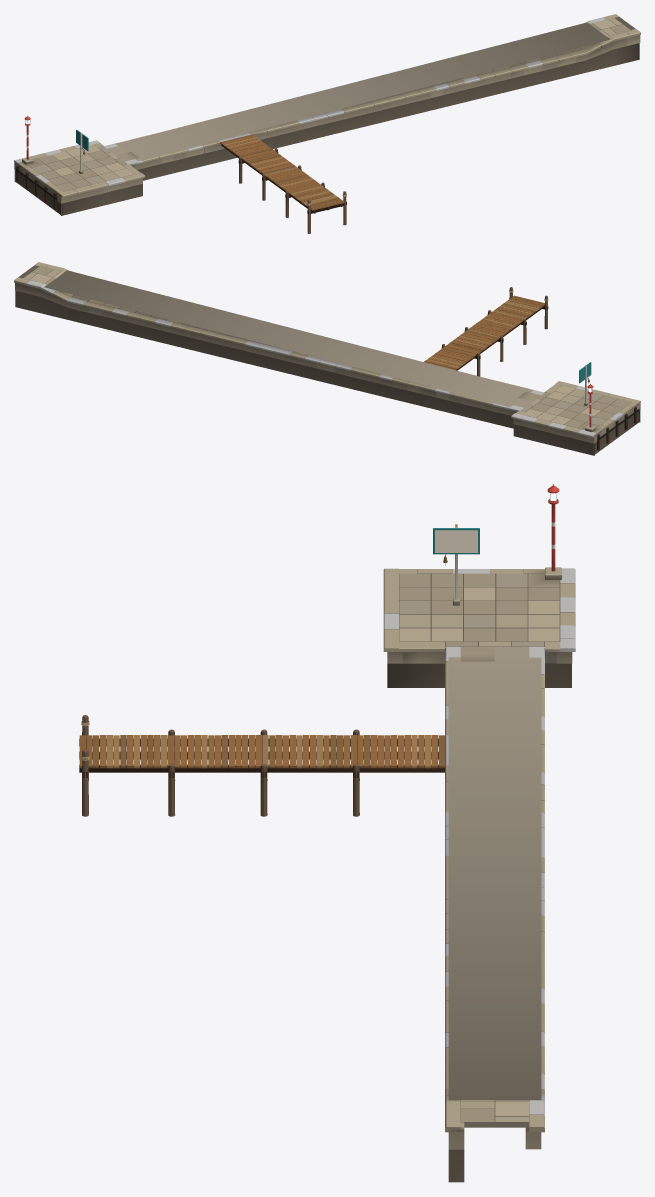
3 views of the same model, one above another, from view 1: azimuth 30°, elevation 25°; view 2: azimuth 150°, elevation 25°; view 3: azimuth 270°, elevation 25° (orthographic). The views are drawn at different scales.
Visible parts, largest first — view 1: static_mole; view 2: static_mole; view 3: static_mole.
Part boxes in pixels (x1,y1,x2,y2): static_mole: (14,14,640,233); static_mole: (14,262,640,455); static_mole: (79,484,575,1182).
Size of the model in its own units: 44.17 by 5.01 by 16.12.
